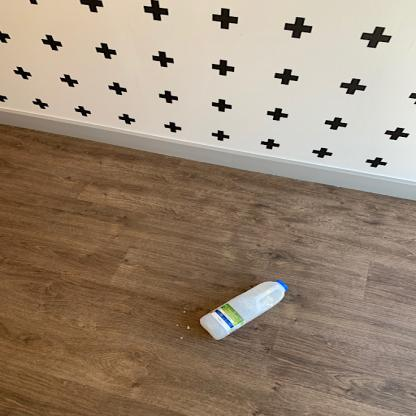trash: (191, 278, 288, 344)
